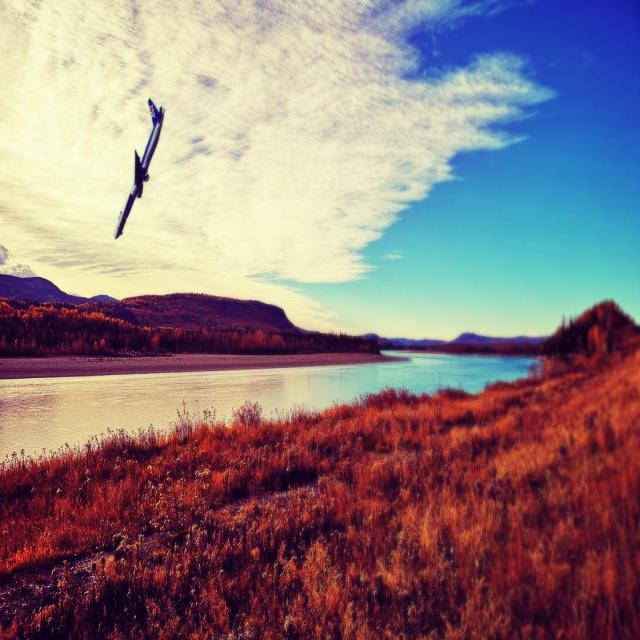airplane: (113, 98, 165, 240)
